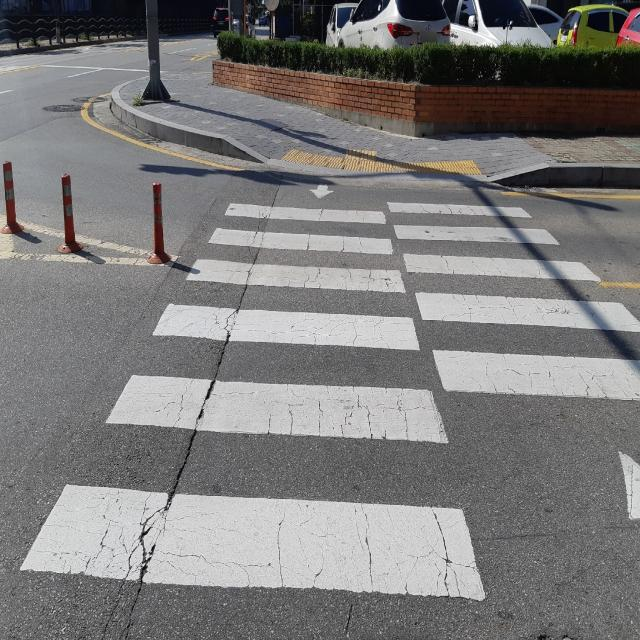횡단보도: (20, 182, 640, 603)
